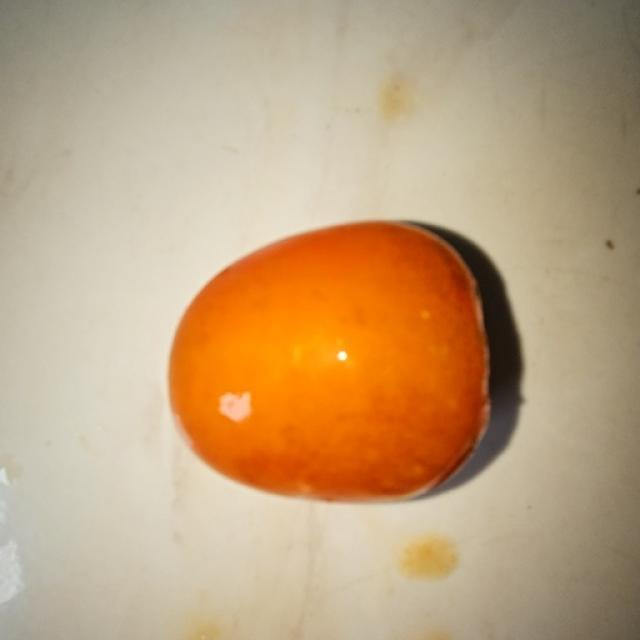Red: (165, 218, 492, 504)
